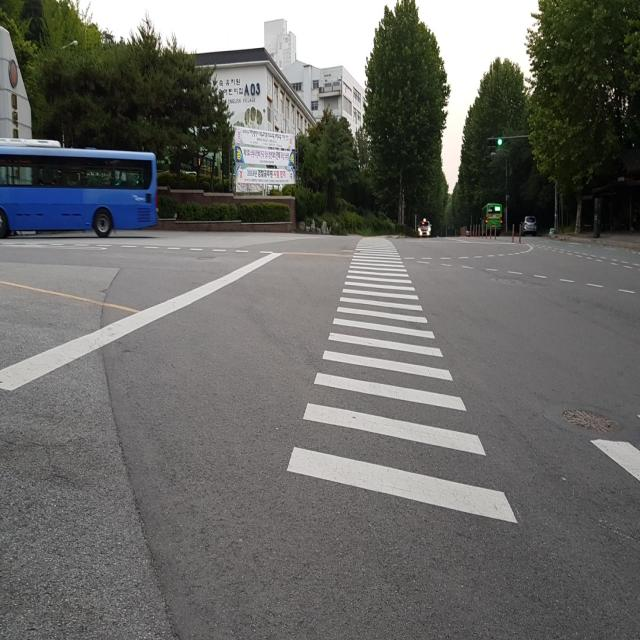횡단보도: (285, 233, 519, 529)
